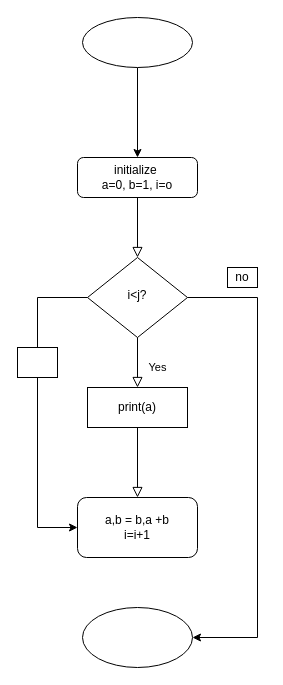
Some shapes in this 283 by 685 pixel diagram are drawn without their labels. Each missing label, with the box of its shape:
loop: (16, 346, 58, 378)
Start: (82, 16, 192, 68)
Stop: (82, 606, 192, 668)
